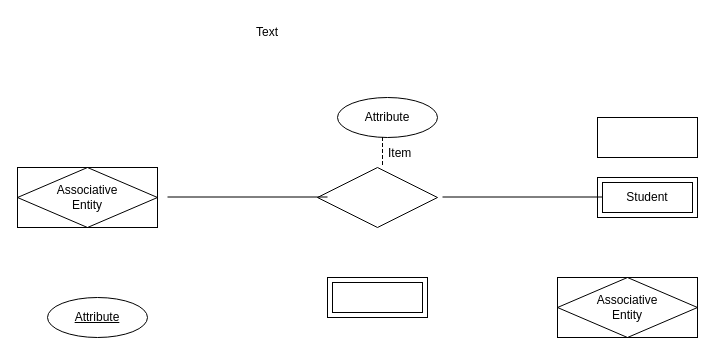
This 715x355 diagram has some shape labels left out. The shapes that lost their labels are listed below. From the top down, each one's centre as x and y in pixels, then its label:
[647,137]: Entity
[377,197]: Relationship
[377,297]: Test
